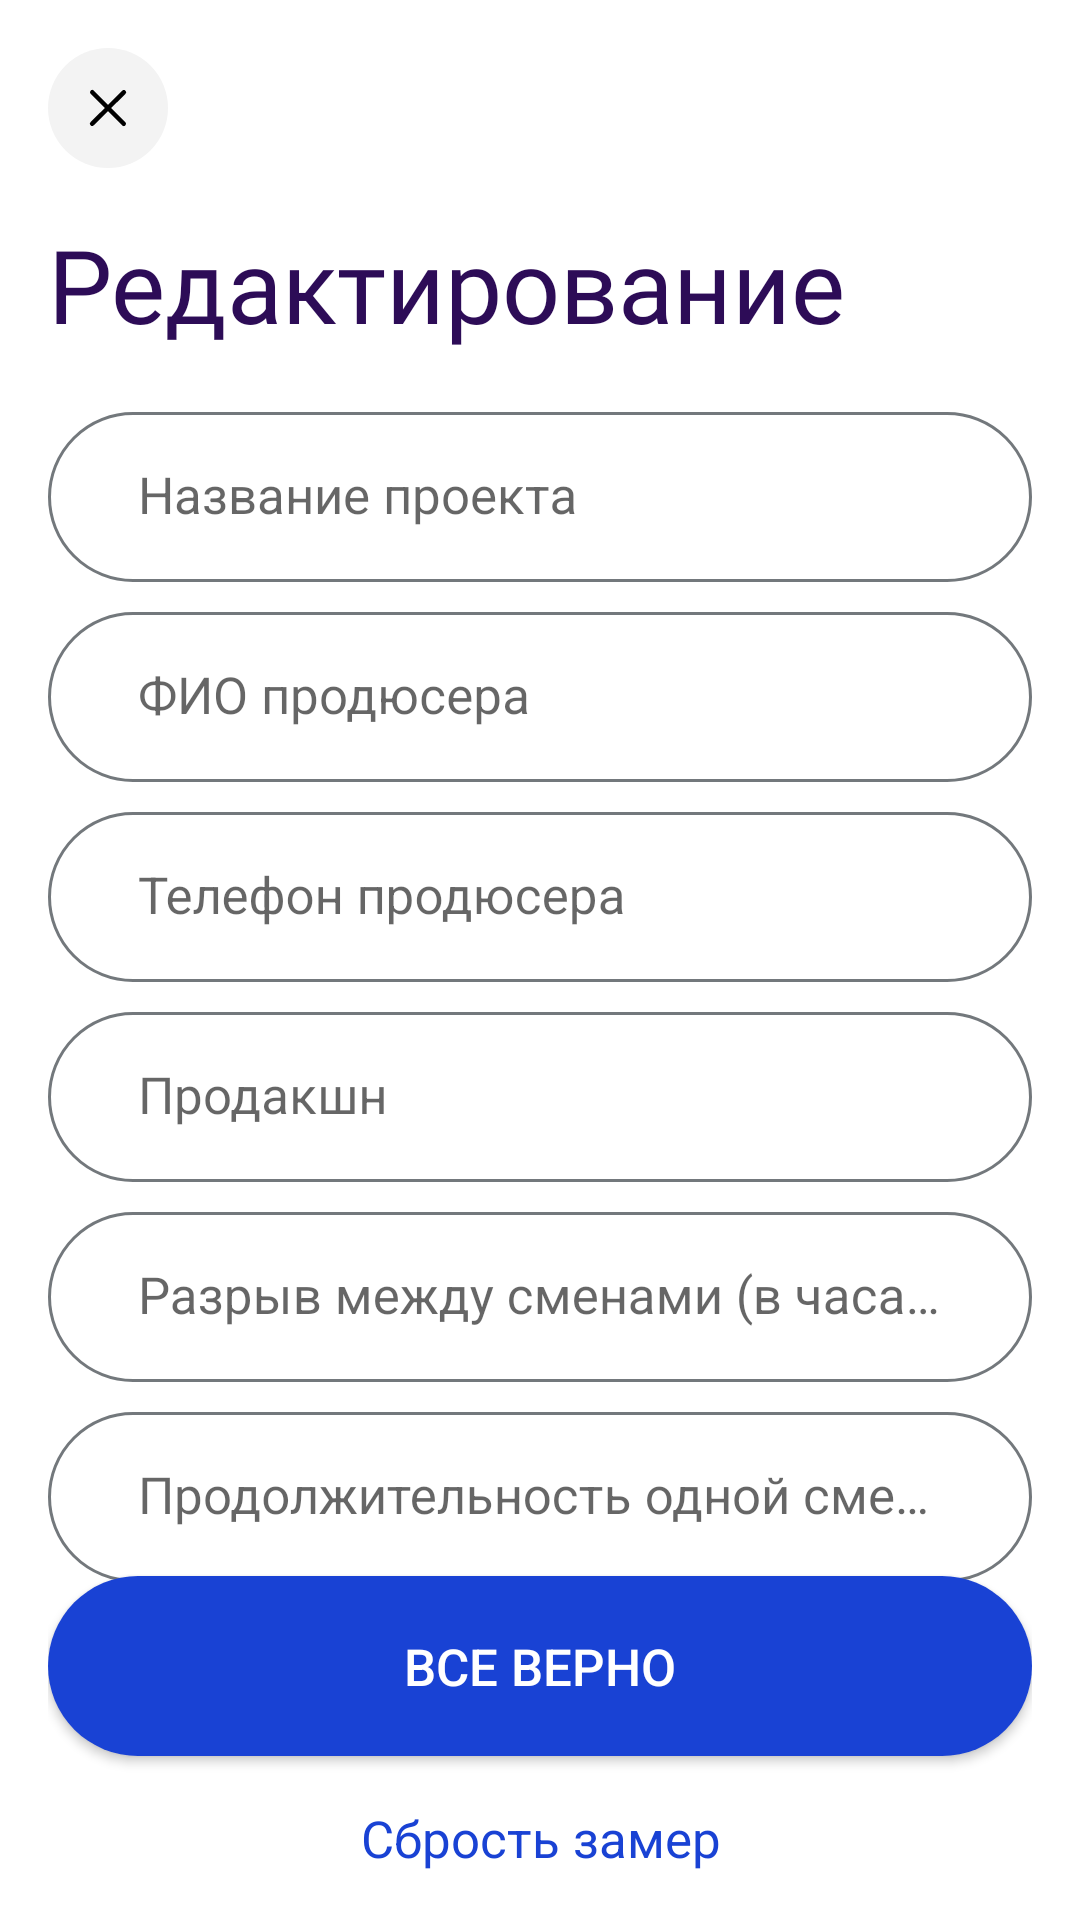

Icons on this 1080x1920 Android screen, each with its box as bbox(x1, y1, x2, y2):
close: bbox(48, 48, 168, 168)
